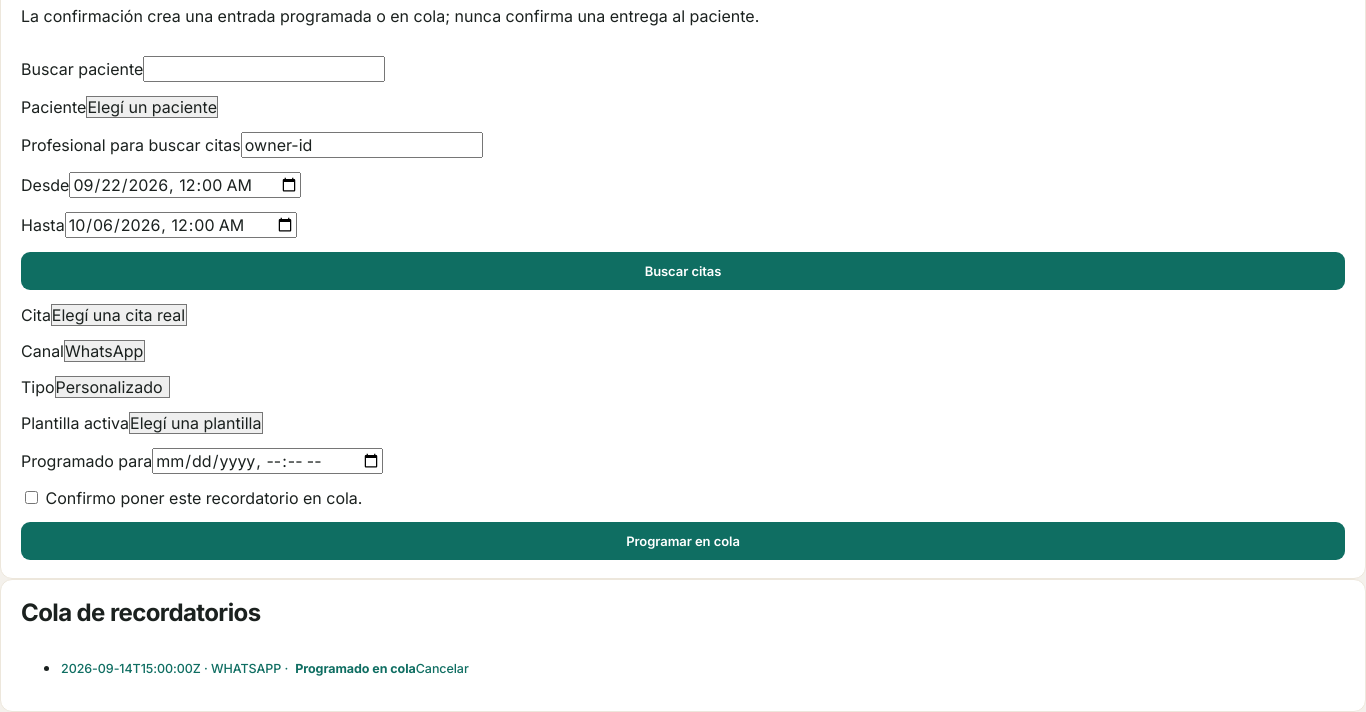
Scenario: RemindersPage communication access › keeps an unresolved original cancellation visible and replayable after its row disappears
The image size is (1366, 712).
(page scrolled)
Click the button "Cancelar". click: {"x": 442, "y": 668}
box: [416, 661, 469, 676]
(page scrolled)
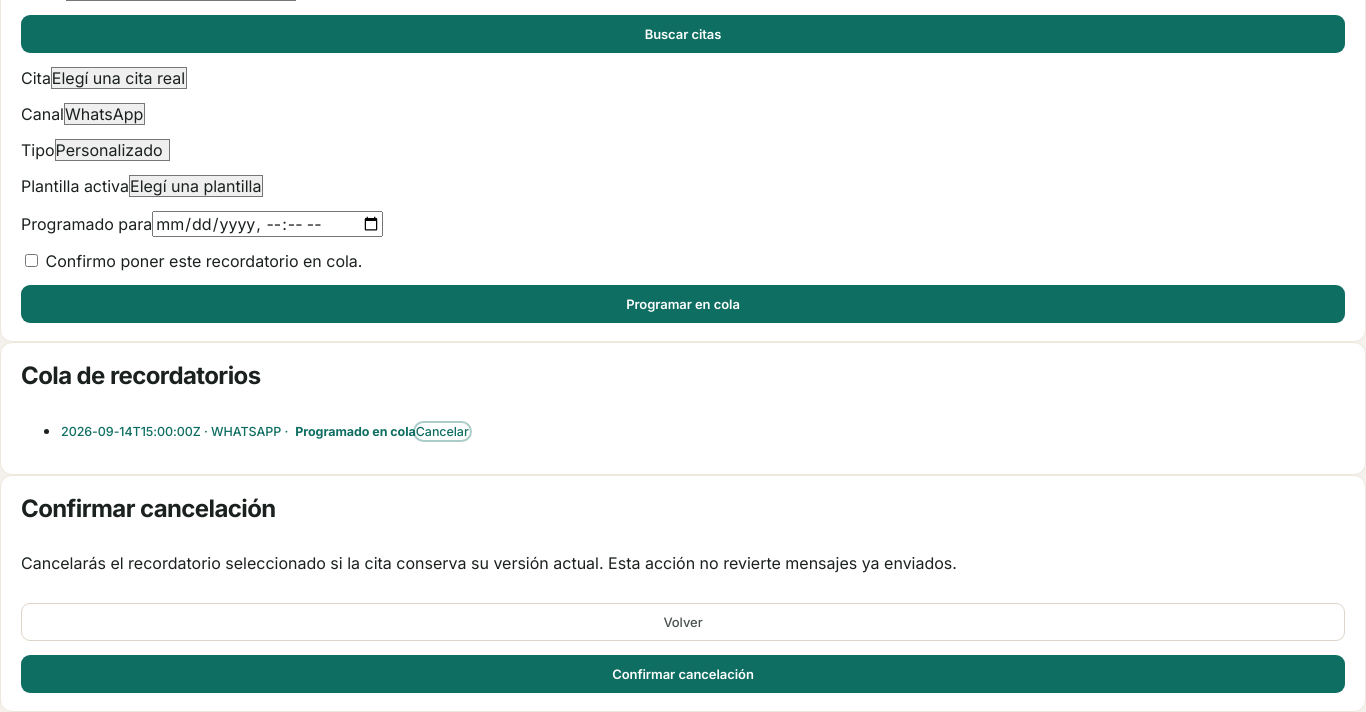
Click the button "Confirmar cancelación". click: {"x": 683, "y": 674}
box: [21, 655, 1345, 693]
(page scrolled)
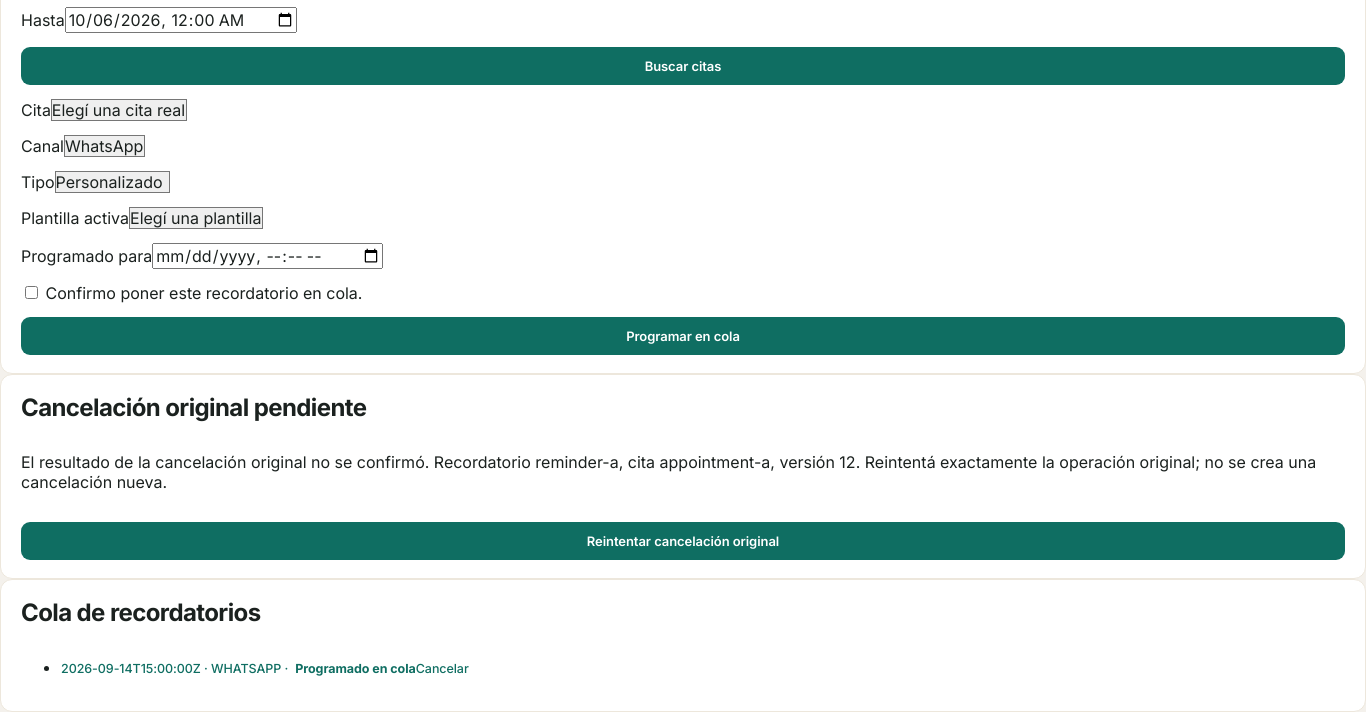
Check: the heading "Cancelación original pendiente" is shown, box [21, 393, 366, 422]
Click the button "Cancelar". click: {"x": 442, "y": 668}
box: [416, 661, 469, 676]
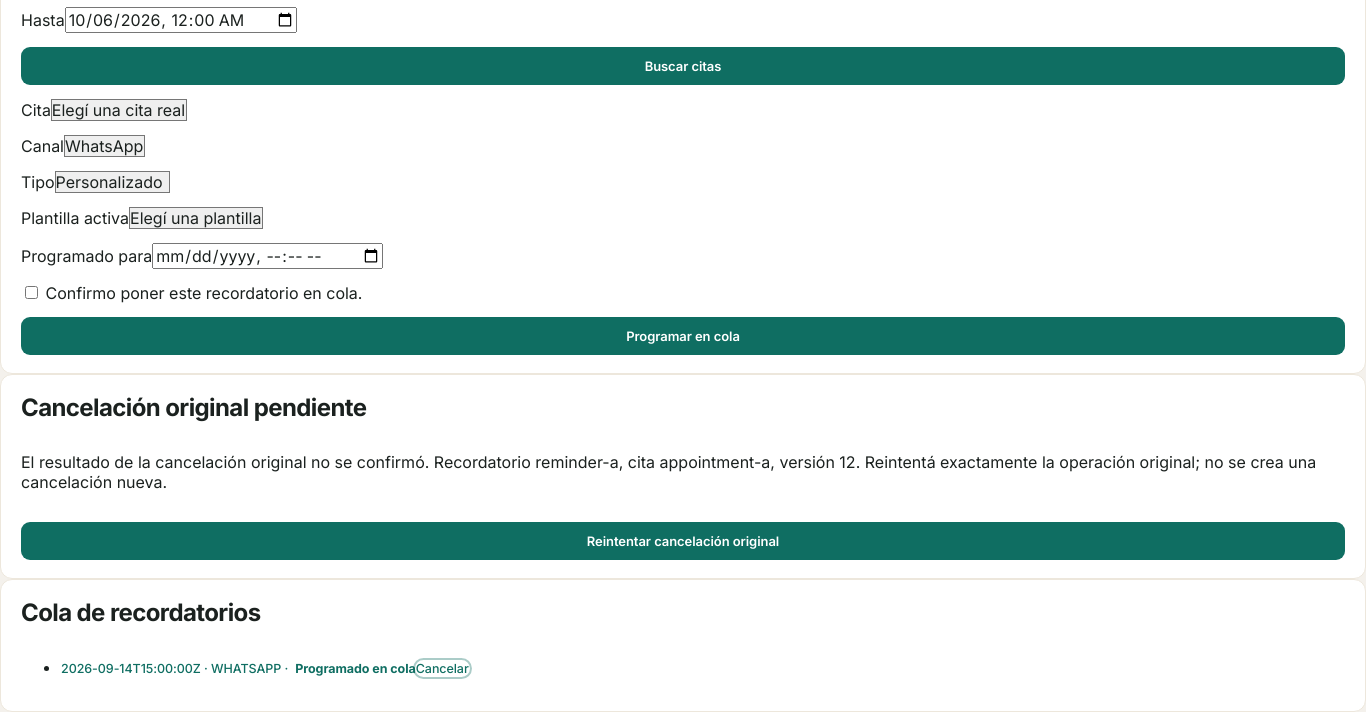
Check: the heading "Confirmar cancelación" is not shown
Click the button "Reintentar cancelación original". click: {"x": 683, "y": 541}
box: [21, 522, 1345, 560]
(page scrolled)
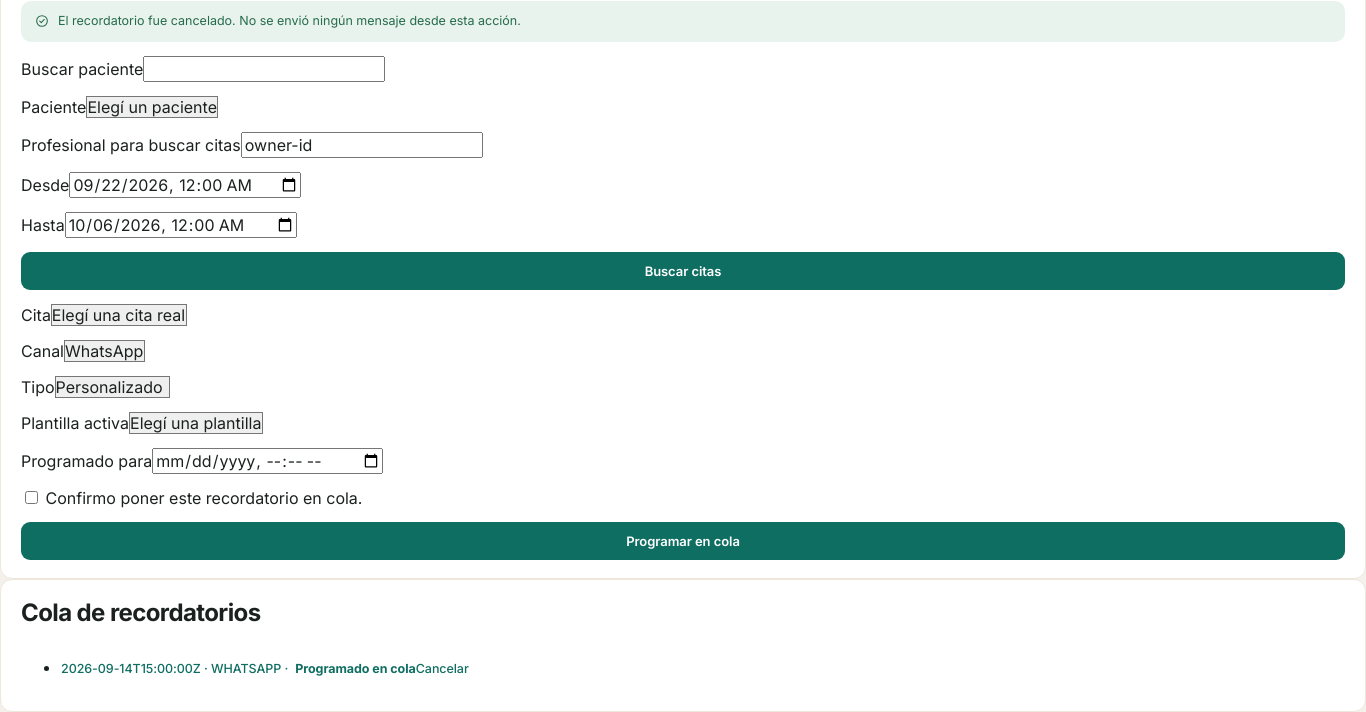
Check: the heading "Cancelación original pendiente" is gone
